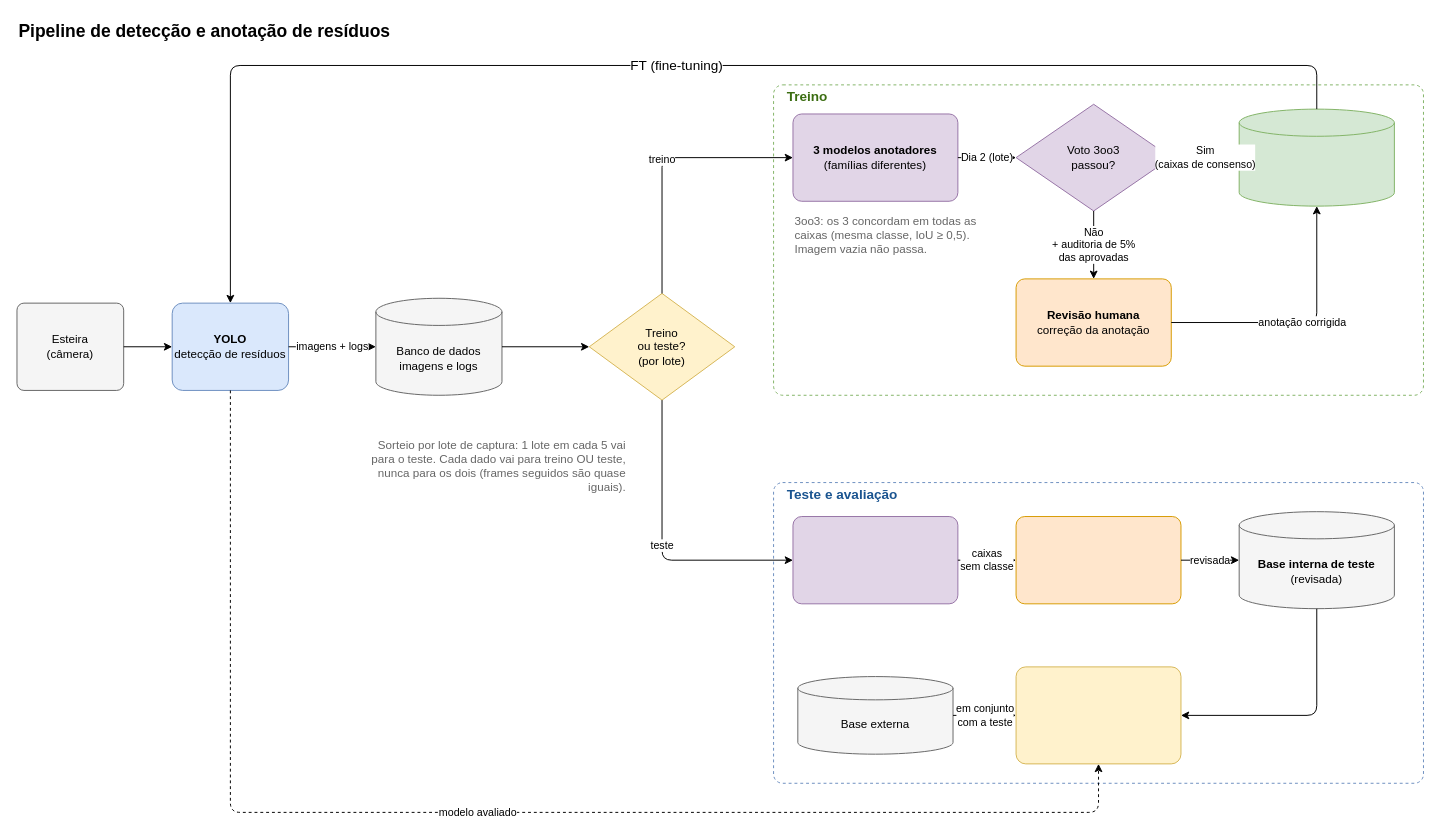
Image size: 1440x837. Some labels were removed from this diagram. Each missing label, with the centre of its shape:
Avaliação do YOLO melhoria incremental: the point at 1098,715
Base interna refinada (treino): the point at 1316,157
Revisão humana obrigatória (teste): dá a classe e ajusta as caixas: the point at 1098,560
Segmentação sem classe união das caixas dos 3 anotadores: the point at 875,560
